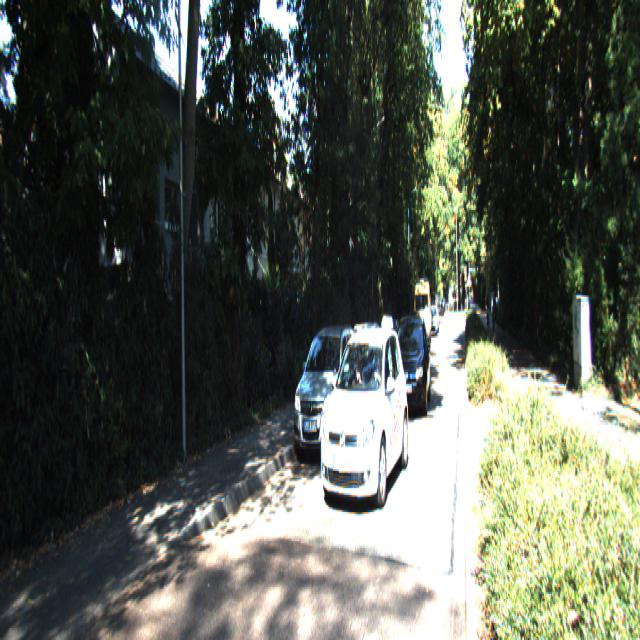Car: (314, 323, 411, 524), (289, 321, 360, 471), (336, 318, 387, 418), (391, 313, 431, 421), (376, 315, 405, 381), (413, 277, 432, 346), (405, 308, 423, 356)
